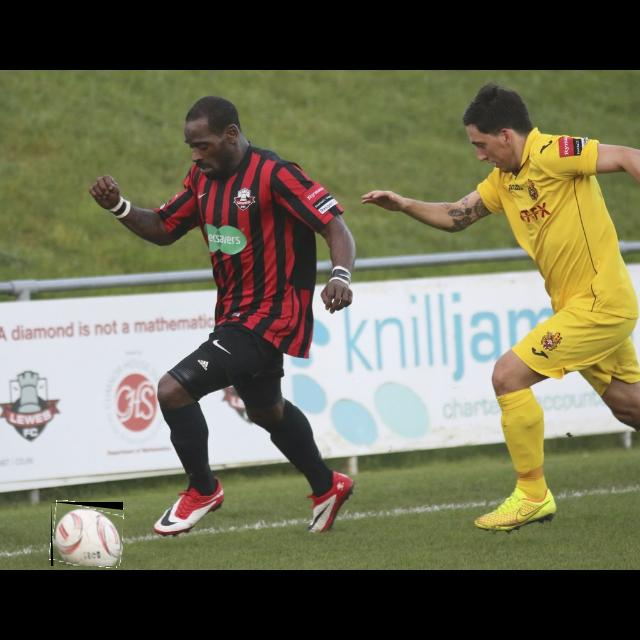Football: (51, 502, 123, 566)
